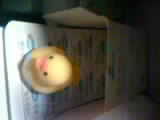duck: (11, 41, 86, 103)
